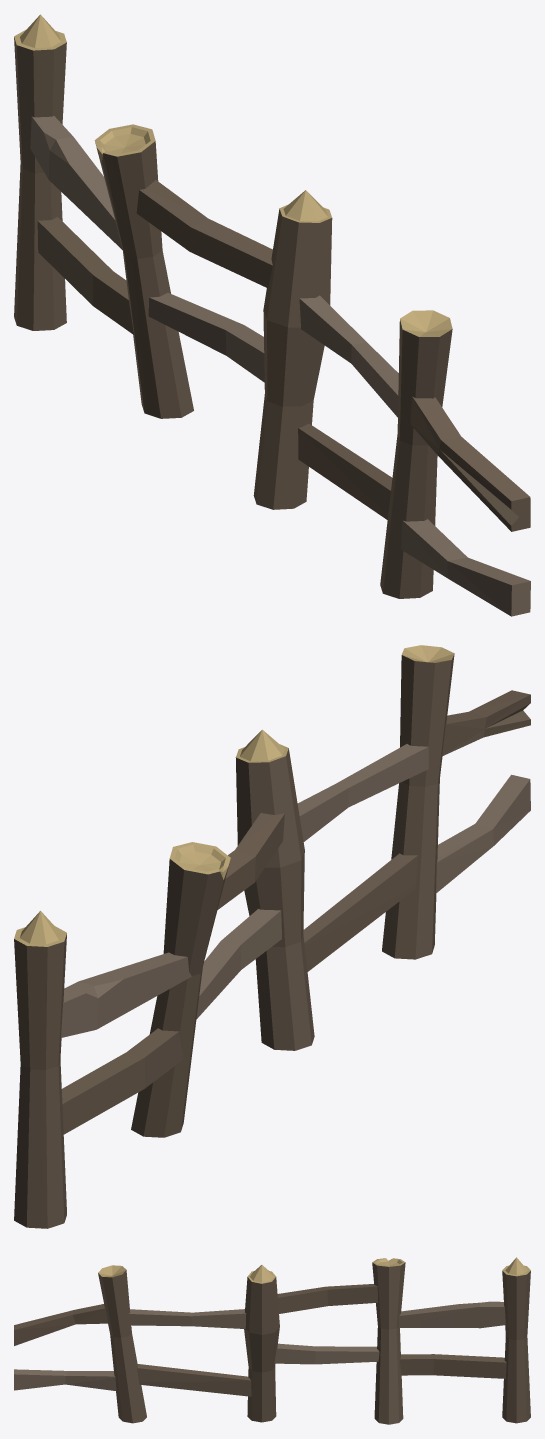
File: Fence_02.glb
3 renders of one model, top to bottom at view 1: azimuth 30°, elevation 25°; view 2: azimuth 150°, elevation 25°; view 3: azimuth 270°, elevation 25°, orthographic. The views are drawn at different scales.
Parts seen in each view (by area): view 1: Fense_2; view 2: Fense_2; view 3: Fense_2.
Boxes of the visible parts, box(x1,y1,x2,y2) form: Fense_2: box(14, 14, 530, 616); Fense_2: box(14, 645, 530, 1228); Fense_2: box(14, 1257, 530, 1424).
Bounding box in the file's own units: 0.3995 × 1.08 × 3.16.
1 material, 1 textured.
